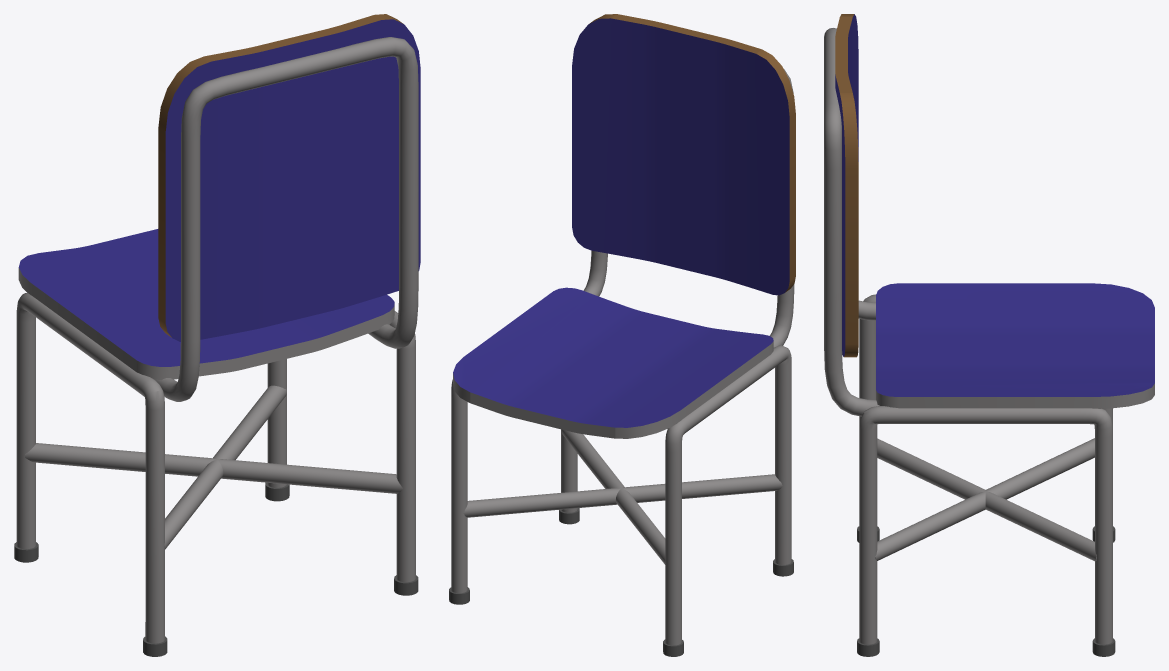
Rendered from SillaFinal.fbx.
3 views of the same model, side by side, from view 1: azimuth 30°, elevation 25°; view 2: azimuth 150°, elevation 25°; view 3: azimuth 270°, elevation 25° (orthographic). The views are drawn at different scales.
Parts seen in each view (by area): view 1: Silla; view 2: Silla; view 3: Silla.
Part boxes in pixels (x1,y1,x2,y2): Silla: [14, 14, 420, 656]; Silla: [449, 14, 795, 656]; Silla: [824, 14, 1154, 656].
Bounding box in the file's own units: 3255 × 6758 × 3744.
